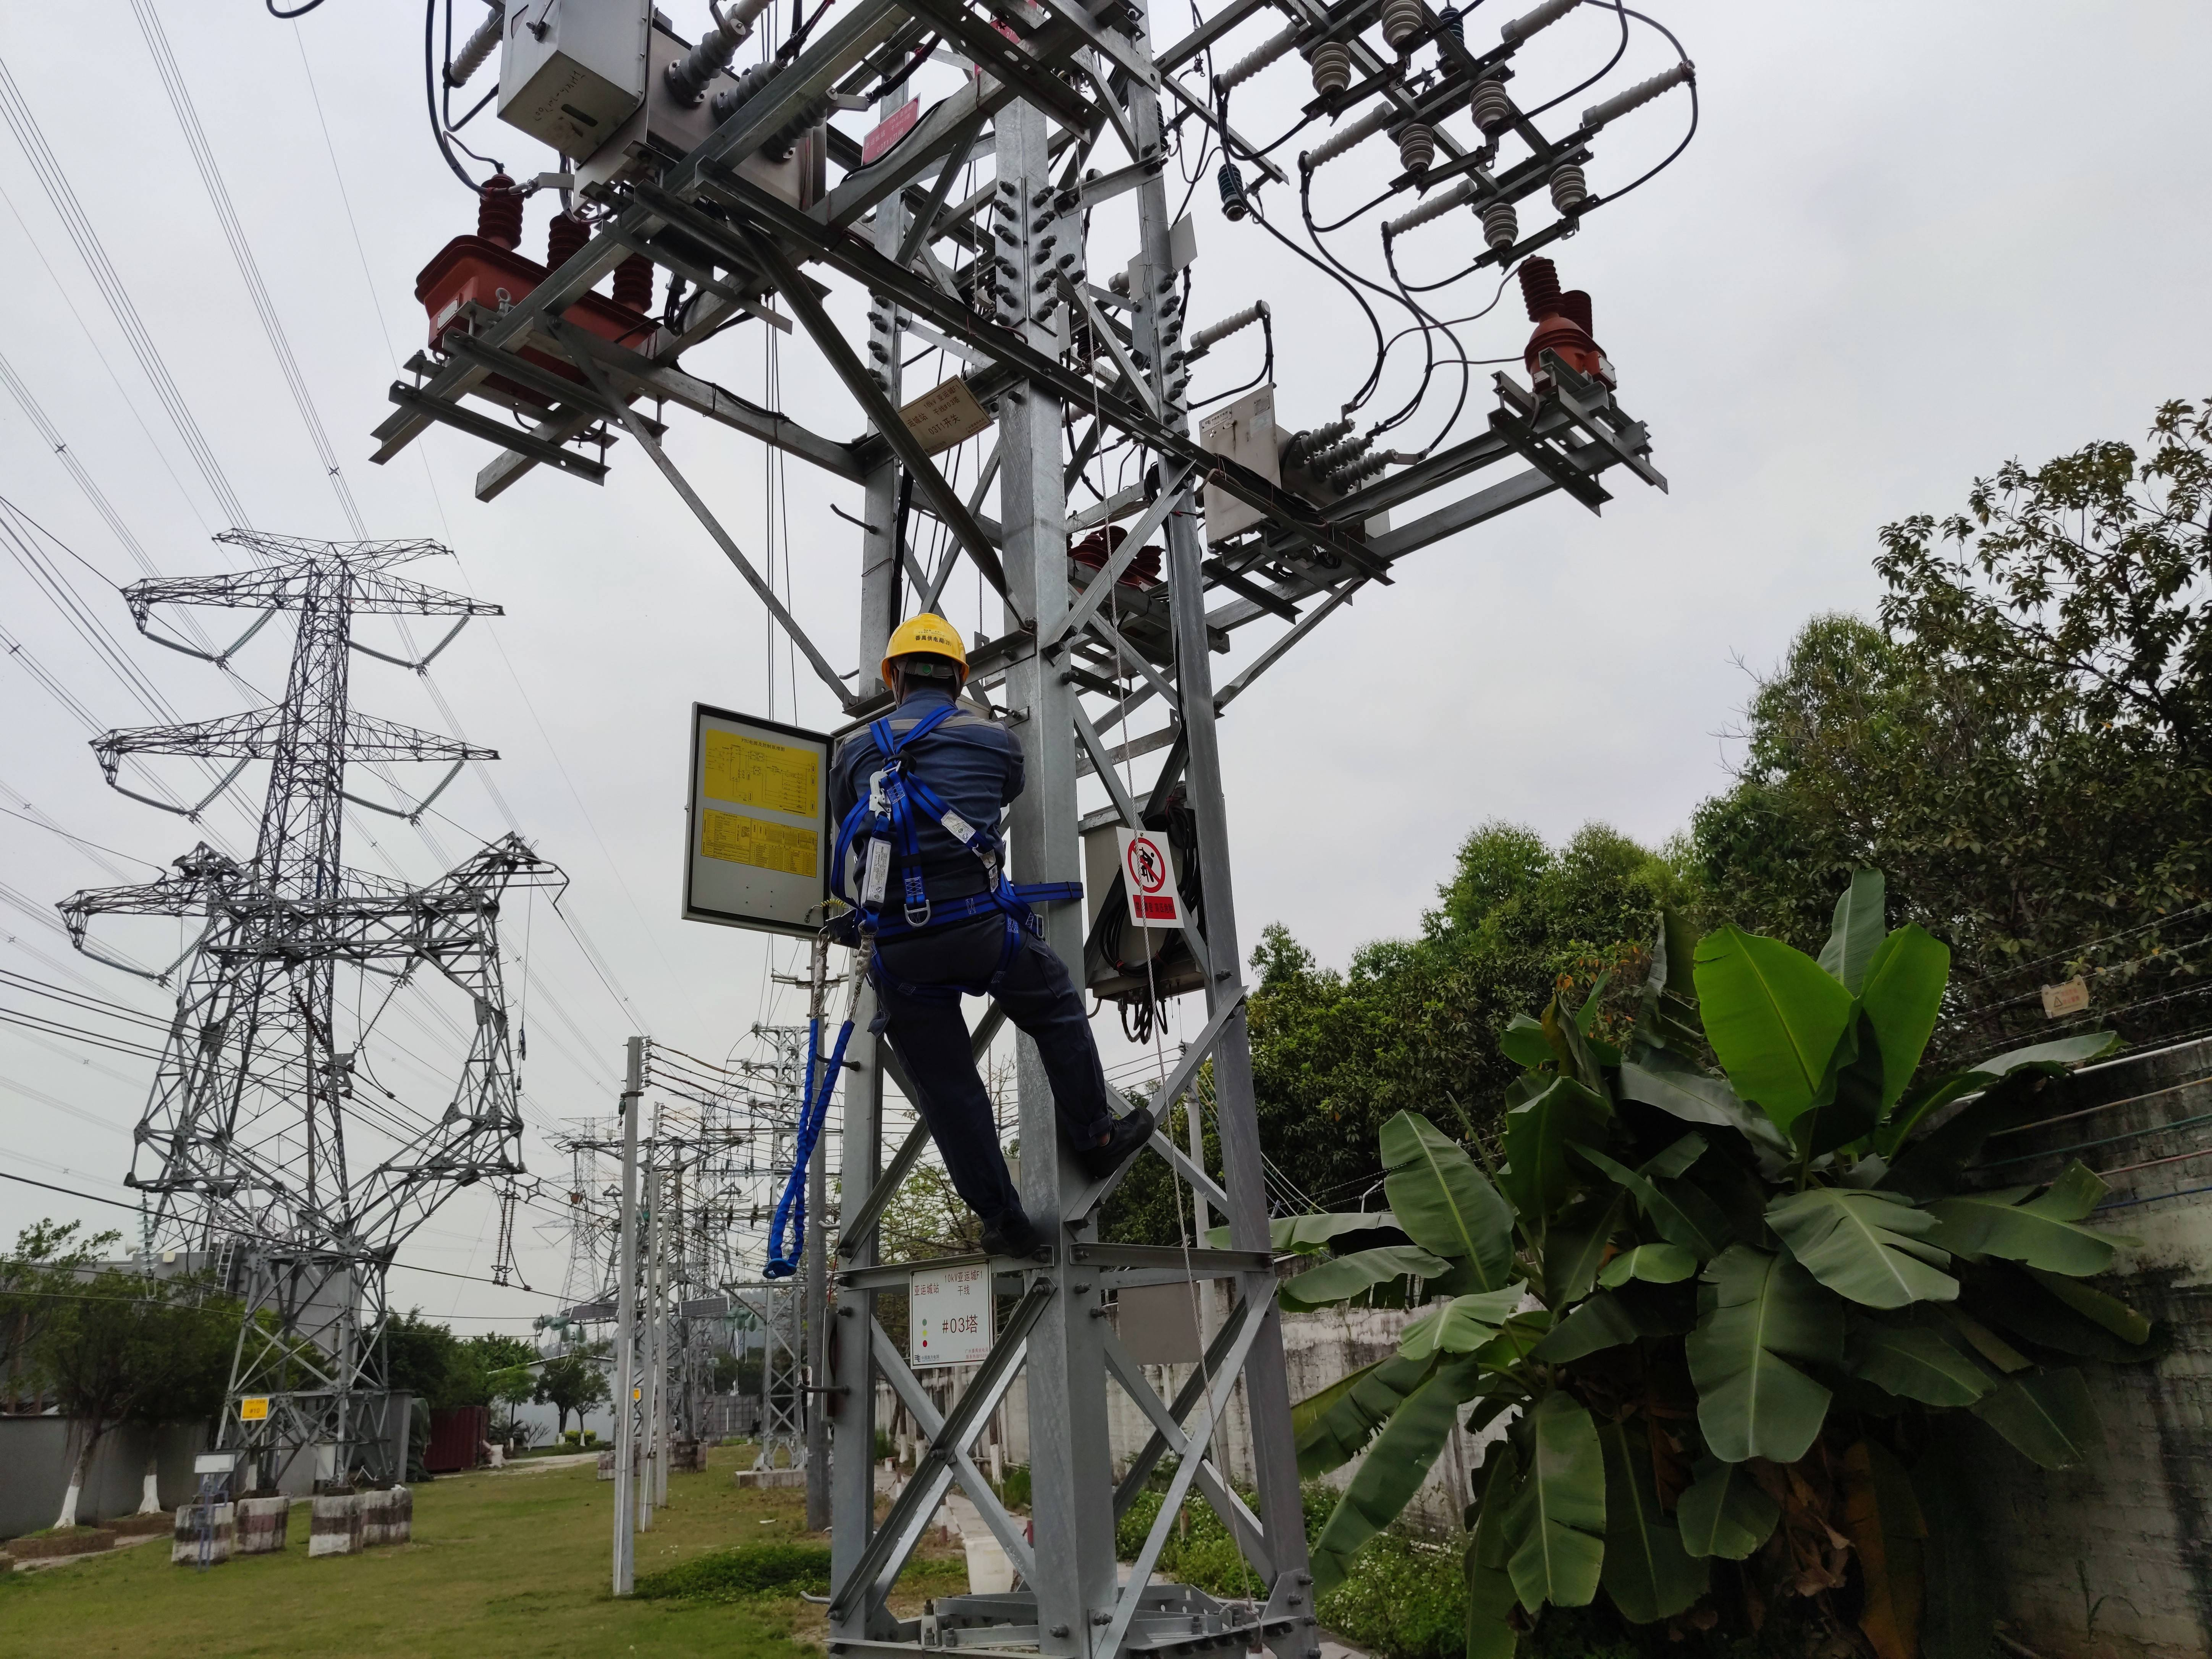downsuit: (864, 915, 1113, 1220)
upsuit: (829, 699, 1024, 917)
